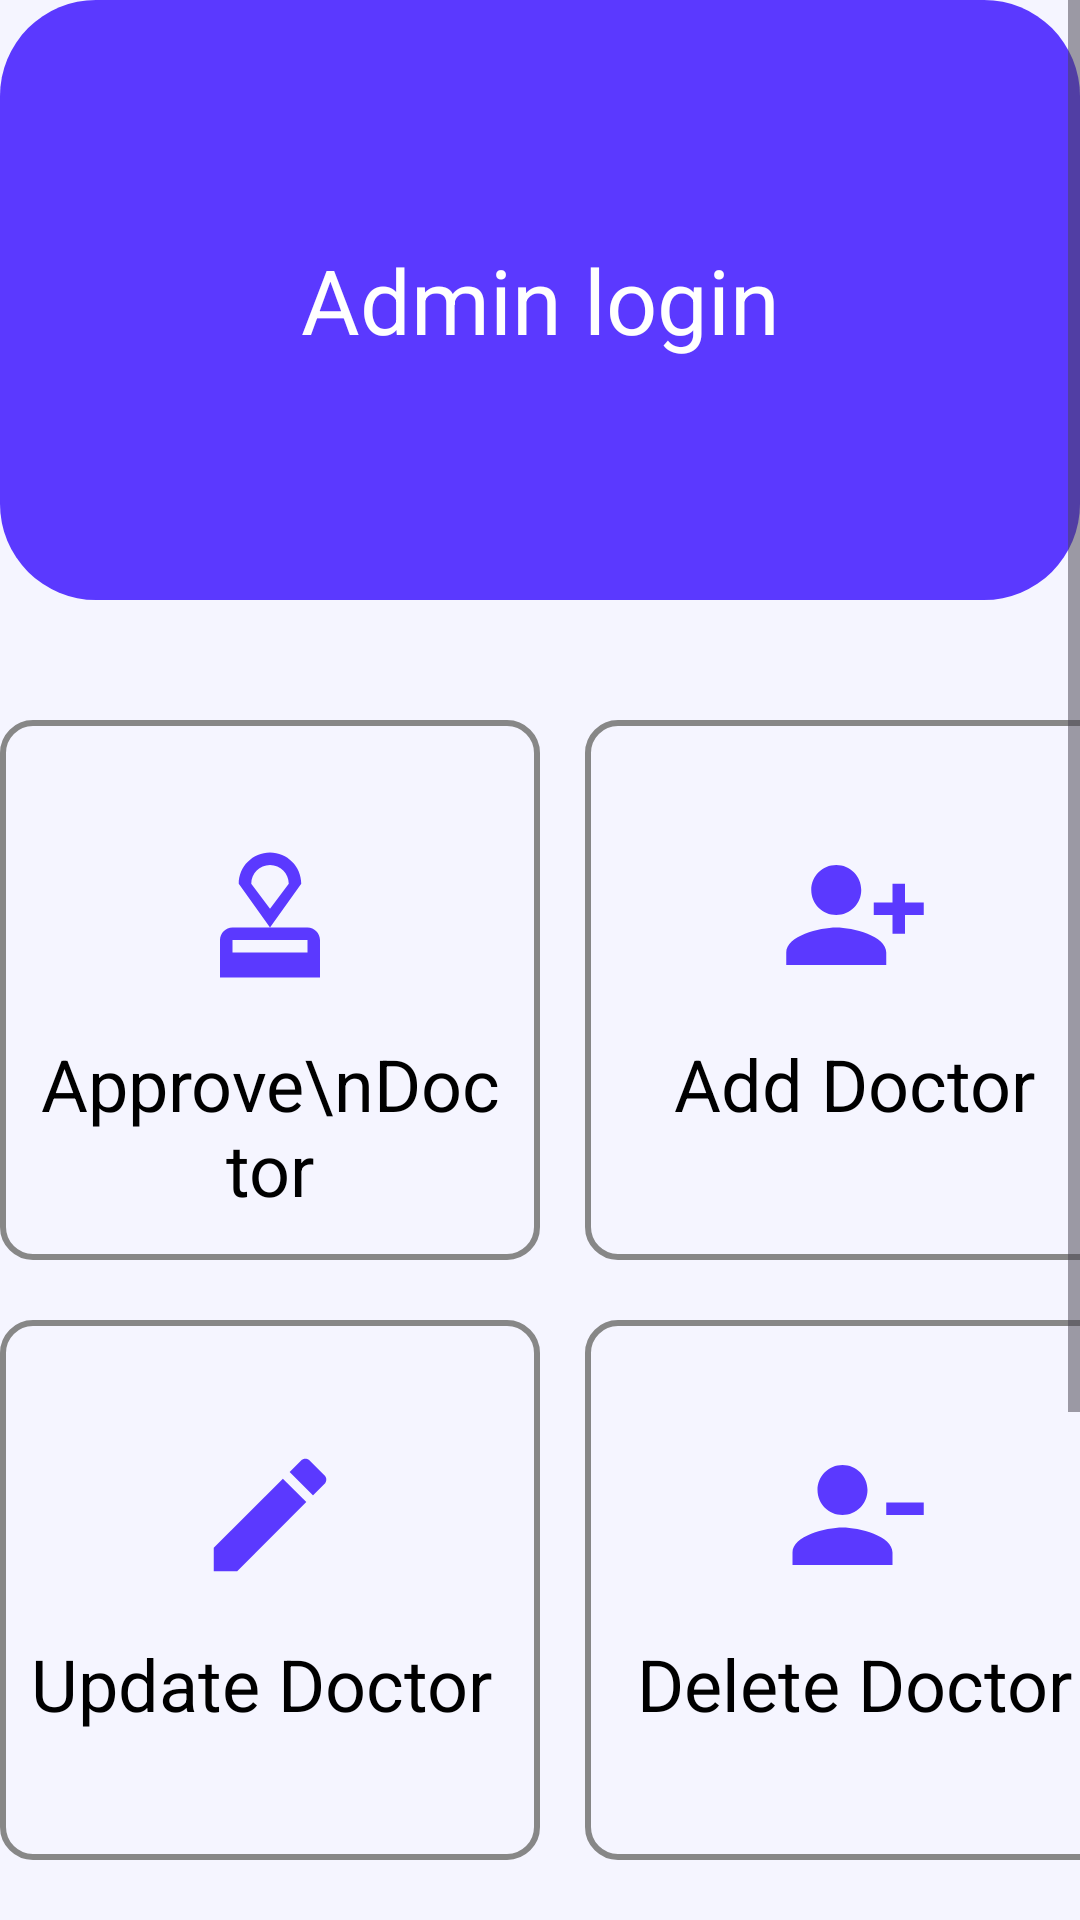

Screen size 1080*1920. Icon name, then its center in pixels as [x,y]:
approval: [270,915]
mode edit: [270,1515]
person add: [855,915]
person remove: [858,1515]
